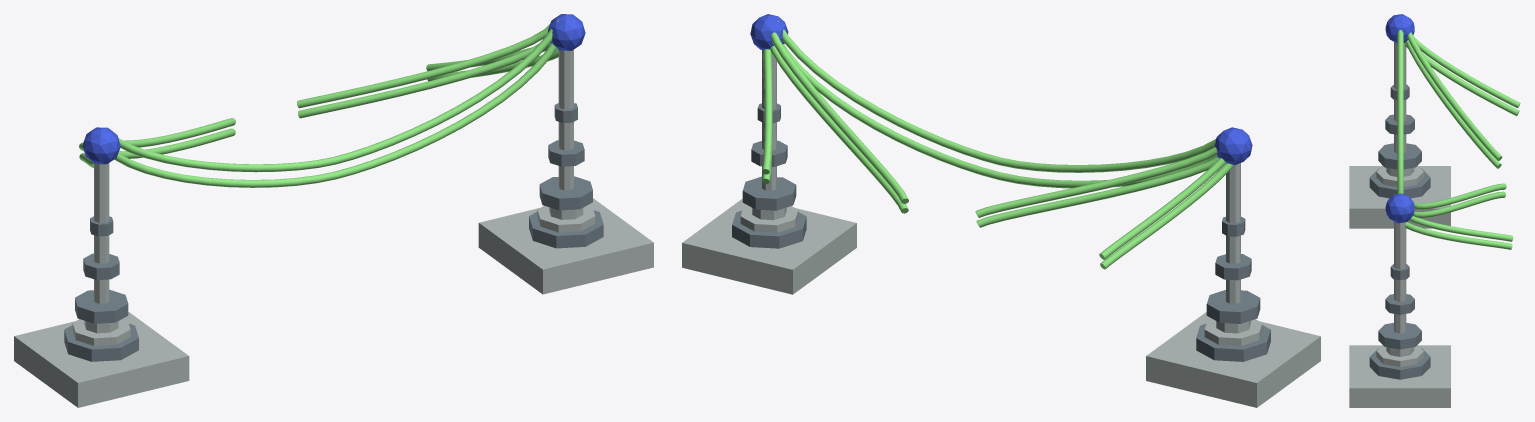
Rendered from Tanks_3_Power 2.fbx.
3 views of the same model, side by side, from view 1: azimuth 30°, elevation 25°; view 2: azimuth 150°, elevation 25°; view 3: azimuth 270°, elevation 25° (orthographic). The views are drawn at different scales.
Visible parts, largest first — view 1: TankPowerPoles; view 2: TankPowerPoles; view 3: TankPowerPoles.
Part boxes in pixels (x1,y1,x2,y2): TankPowerPoles: (14, 14, 653, 407); TankPowerPoles: (682, 14, 1320, 407); TankPowerPoles: (1349, 14, 1520, 407).
Size of the model in its own units: 1503 by 605 by 489.
